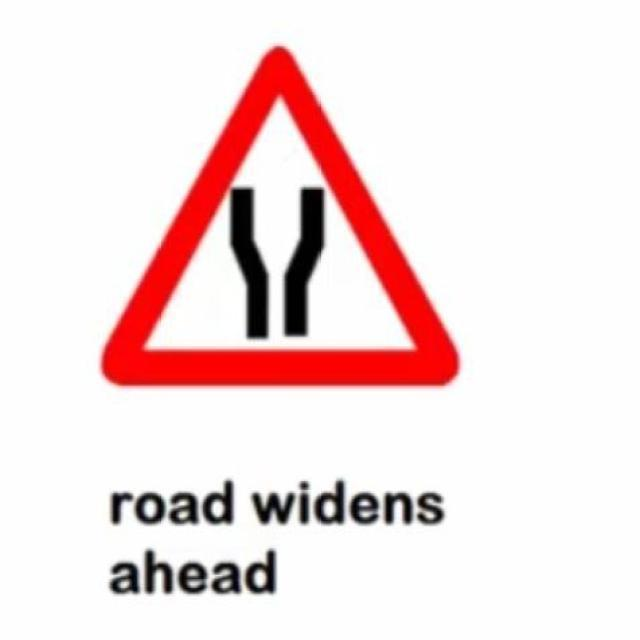road widens ahead: (97, 49, 456, 386)
